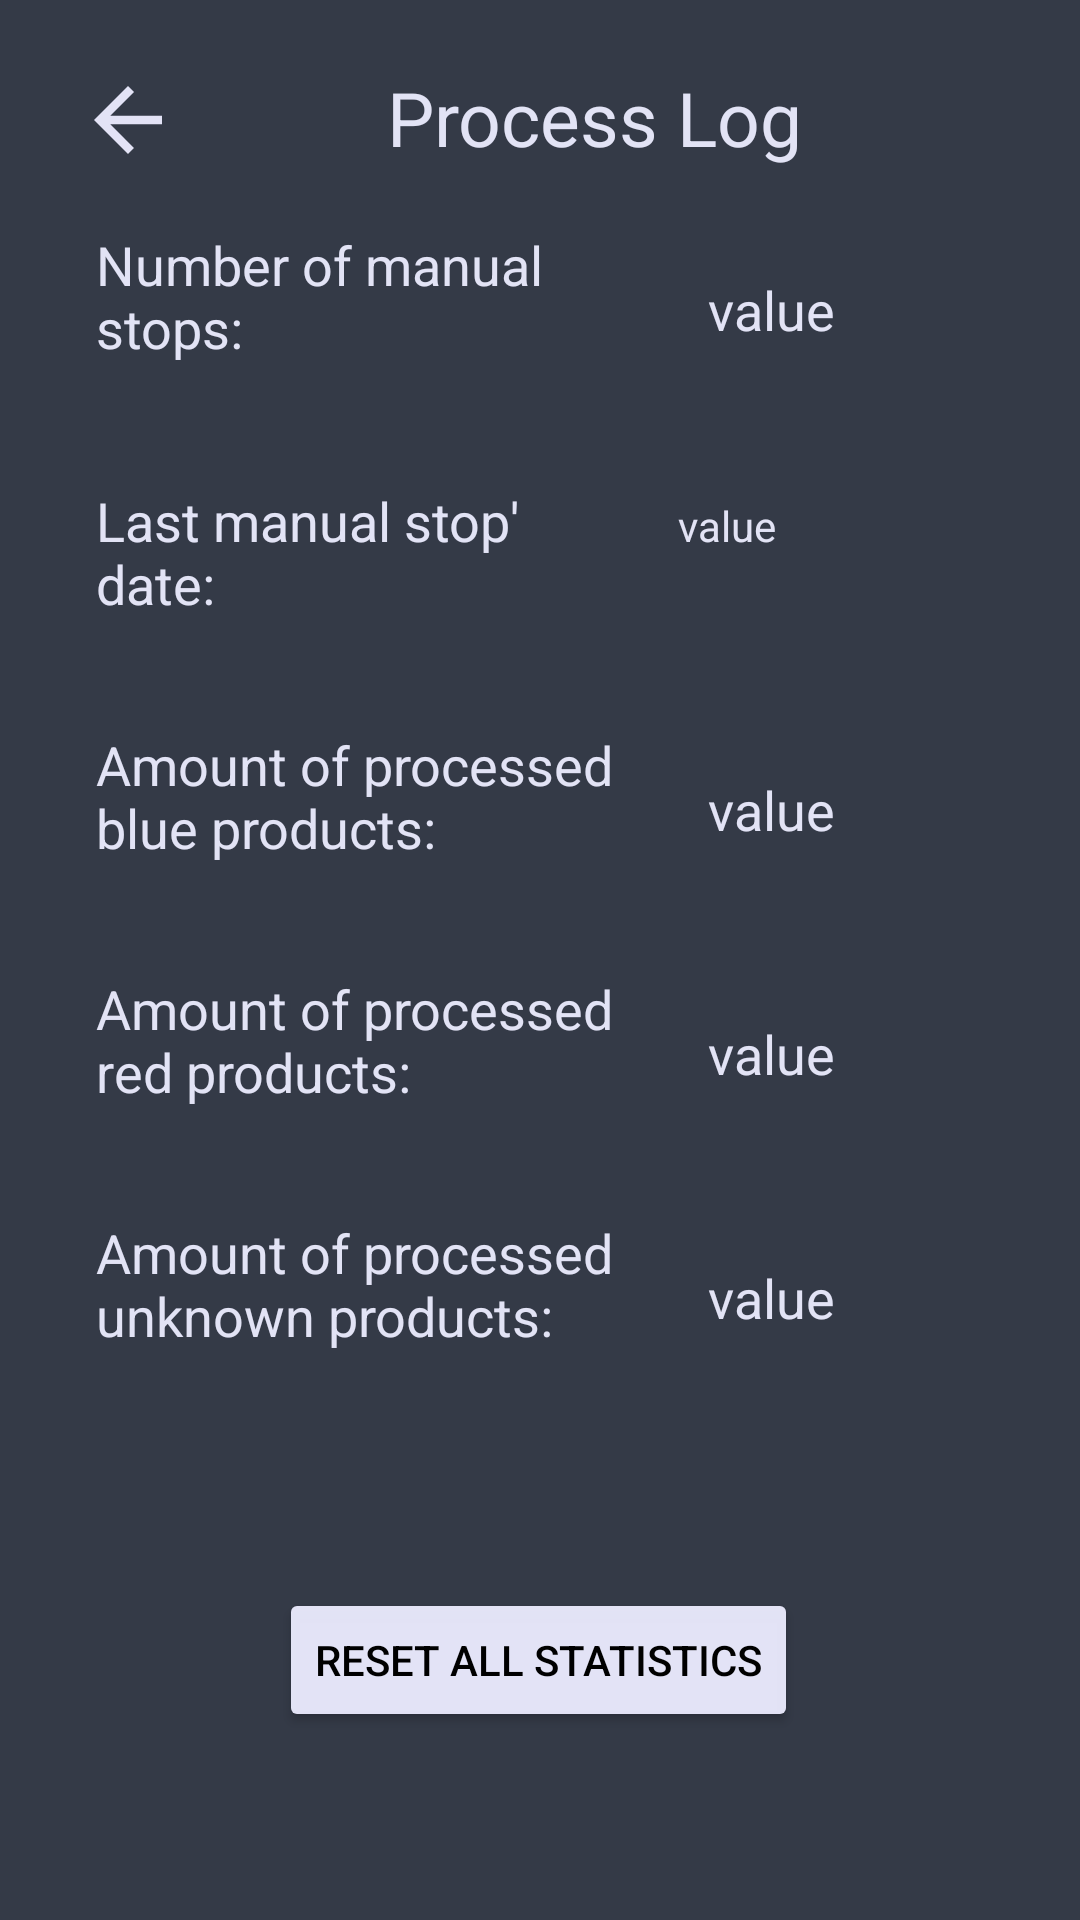

Locate icon controls on the screen. Image size 1080 x 1920, boxes as (x1, y1, x2, y2).
Back to menu: (94, 86, 162, 154)
